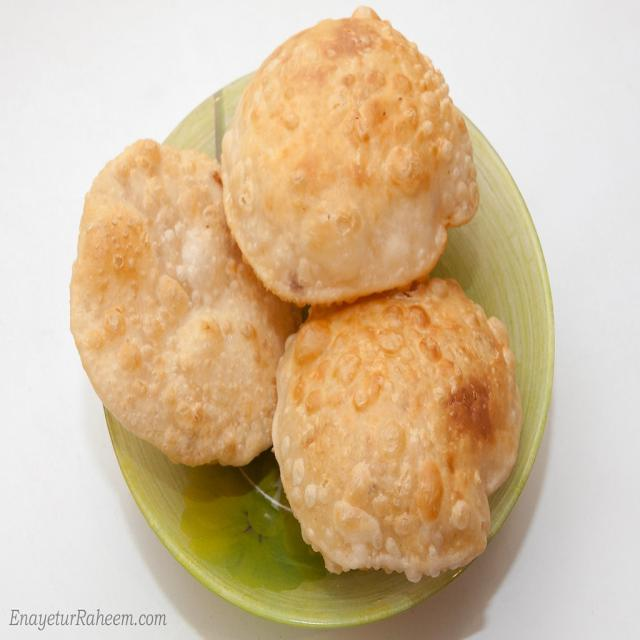POORI: (71, 12, 522, 579)
